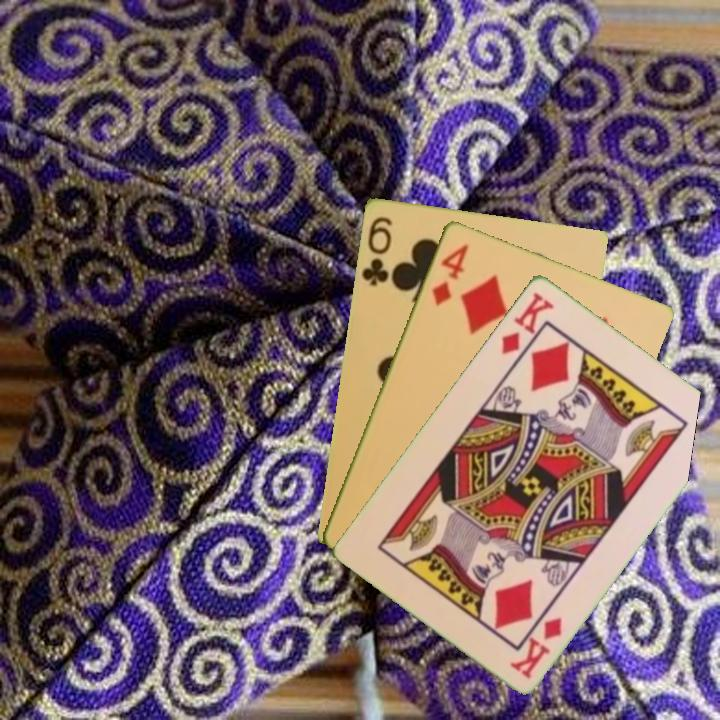4d: (427, 239, 471, 308)
6c: (358, 212, 395, 289)
Kd: (497, 287, 557, 357), (506, 613, 565, 681)
